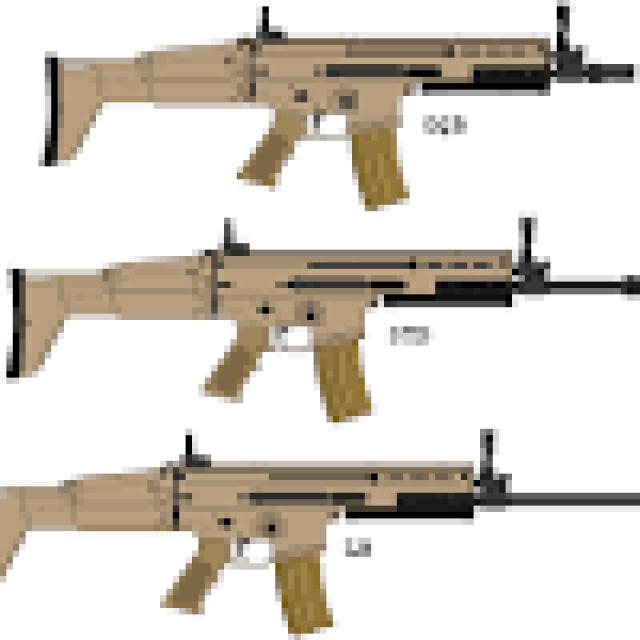Gun: (7, 435, 640, 640), (5, 228, 640, 421), (39, 15, 637, 210)
